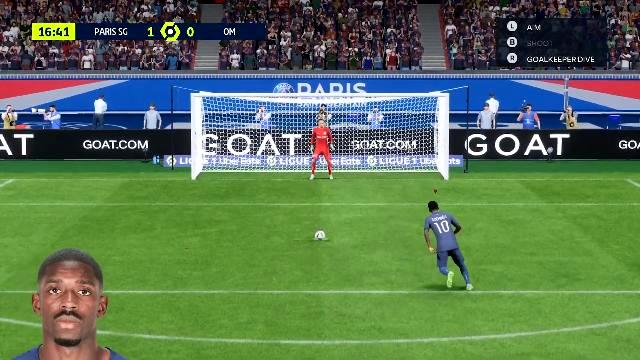bottom-left: (196, 143, 284, 181)
bottom-right: (360, 144, 444, 180)
center-down: (286, 145, 358, 181)
center-up: (286, 97, 356, 143)
football: (316, 232, 326, 238)
goalkeeper: (306, 117, 338, 180)
player: (413, 197, 465, 299)
top-left: (196, 98, 284, 142)
top-right: (360, 98, 444, 142)
